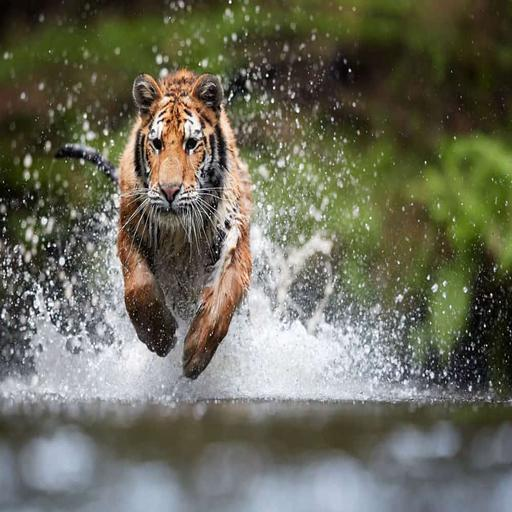Tiger: (55, 54, 275, 402)
